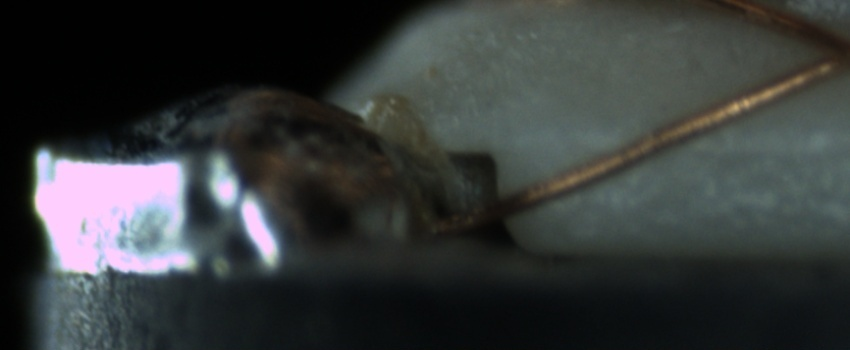CL: (797, 13, 848, 82)
DL: (562, 114, 847, 180)
